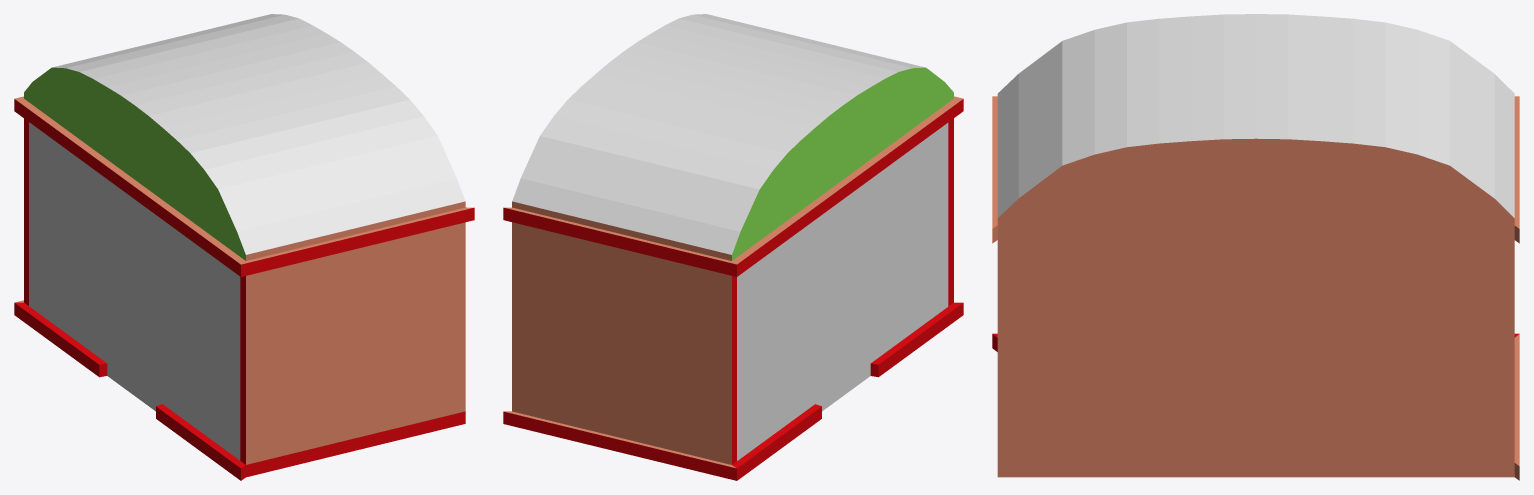
Rendered from HeavenTheaterTheaterHall.fbx.
3 renders of one model, left to right at view 1: azimuth 30°, elevation 25°; view 2: azimuth 150°, elevation 25°; view 3: azimuth 270°, elevation 25°, orthographic. The views are drawn at different scales.
Parts seen in each view (by area): view 1: Cube; view 2: Cube; view 3: Cube.
Boxes of the visible parts, <box> form: Cube: <box>14,14,474,480</box>; Cube: <box>503,14,963,480</box>; Cube: <box>992,14,1519,480</box>.
Size of the model in its own units: 425 by 506 by 715.
